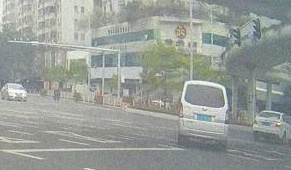L_light: (179, 102, 183, 118), (253, 119, 258, 124)
R_light: (225, 108, 229, 124), (275, 122, 281, 126)
T_light: (200, 85, 210, 88), (269, 112, 274, 114)
day-no: (178, 81, 229, 151)
day-right: (253, 110, 282, 144)
